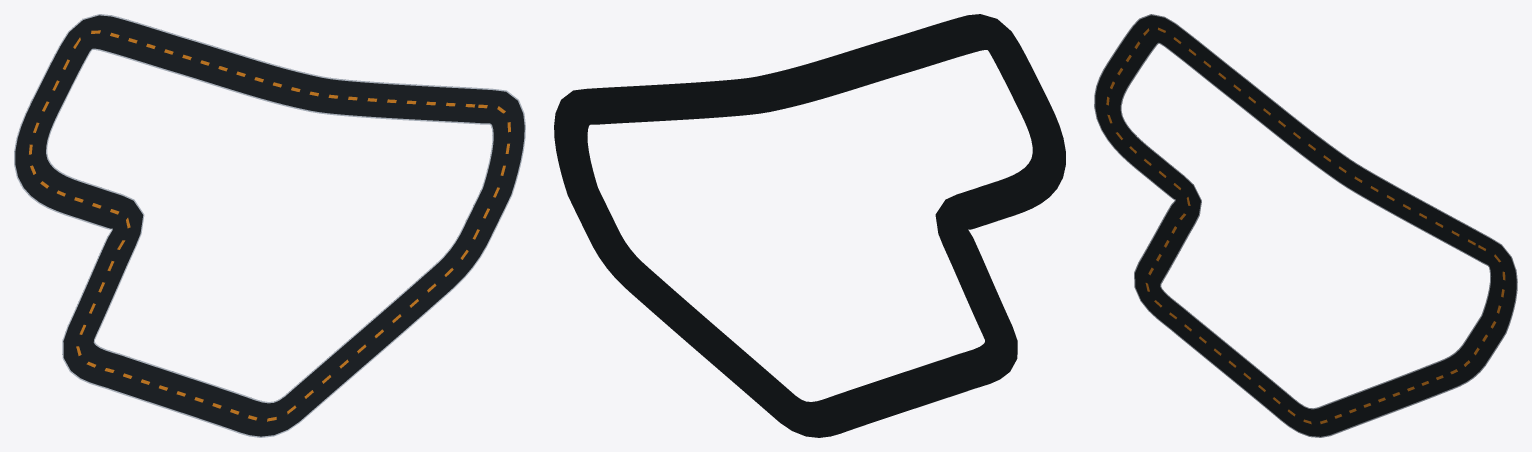
File: track.obj
3 views of the same model, side by side, from view 1: azimuth 30°, elevation 25°; view 2: azimuth 150°, elevation 25°; view 3: azimuth 330°, elevation 25° (orthographic). The views are drawn at different scales.
Size of the model in its own units: 16.31 by 14.16 by 0.002.
